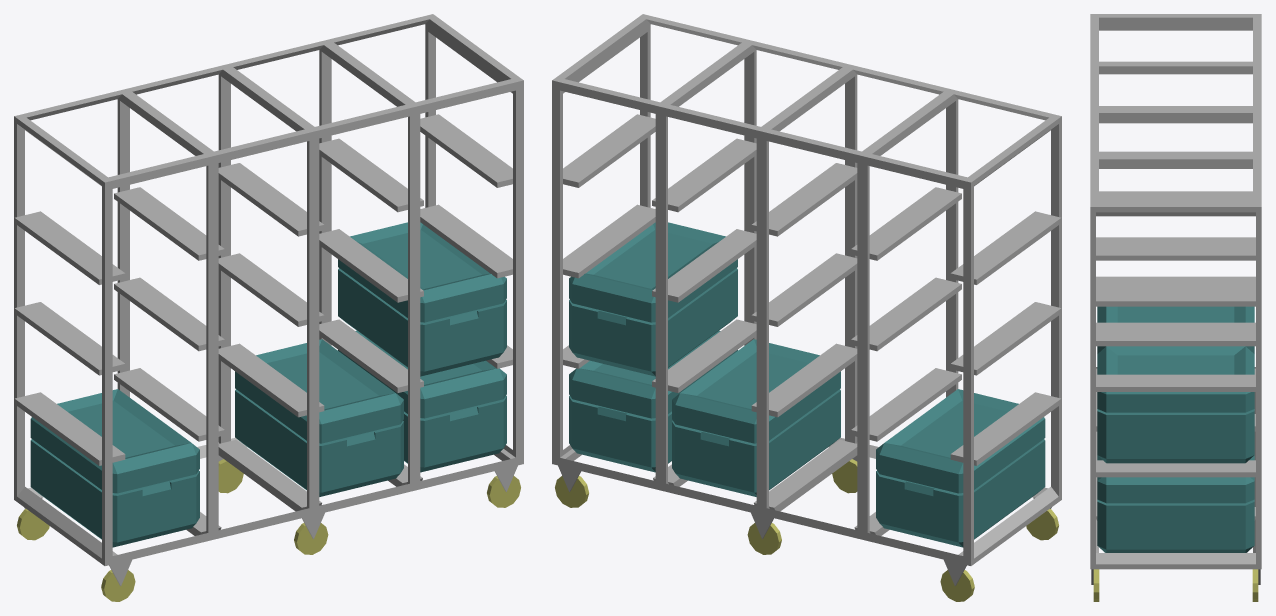
File: Rack2.fbx
3 views of the same model, side by side, from view 1: azimuth 30°, elevation 25°; view 2: azimuth 150°, elevation 25°; view 3: azimuth 270°, elevation 25° (orthographic). The views are drawn at different scales.
Visible parts, largest first — view 1: pCube320; view 2: pCube320; view 3: pCube320.
Boxes of the visible parts, box(x1,y1,x2,y2) form: pCube320: box(14, 14, 523, 601); pCube320: box(552, 14, 1061, 601); pCube320: box(1090, 14, 1261, 601).
Size of the model in its own units: 162 by 60 by 155.
